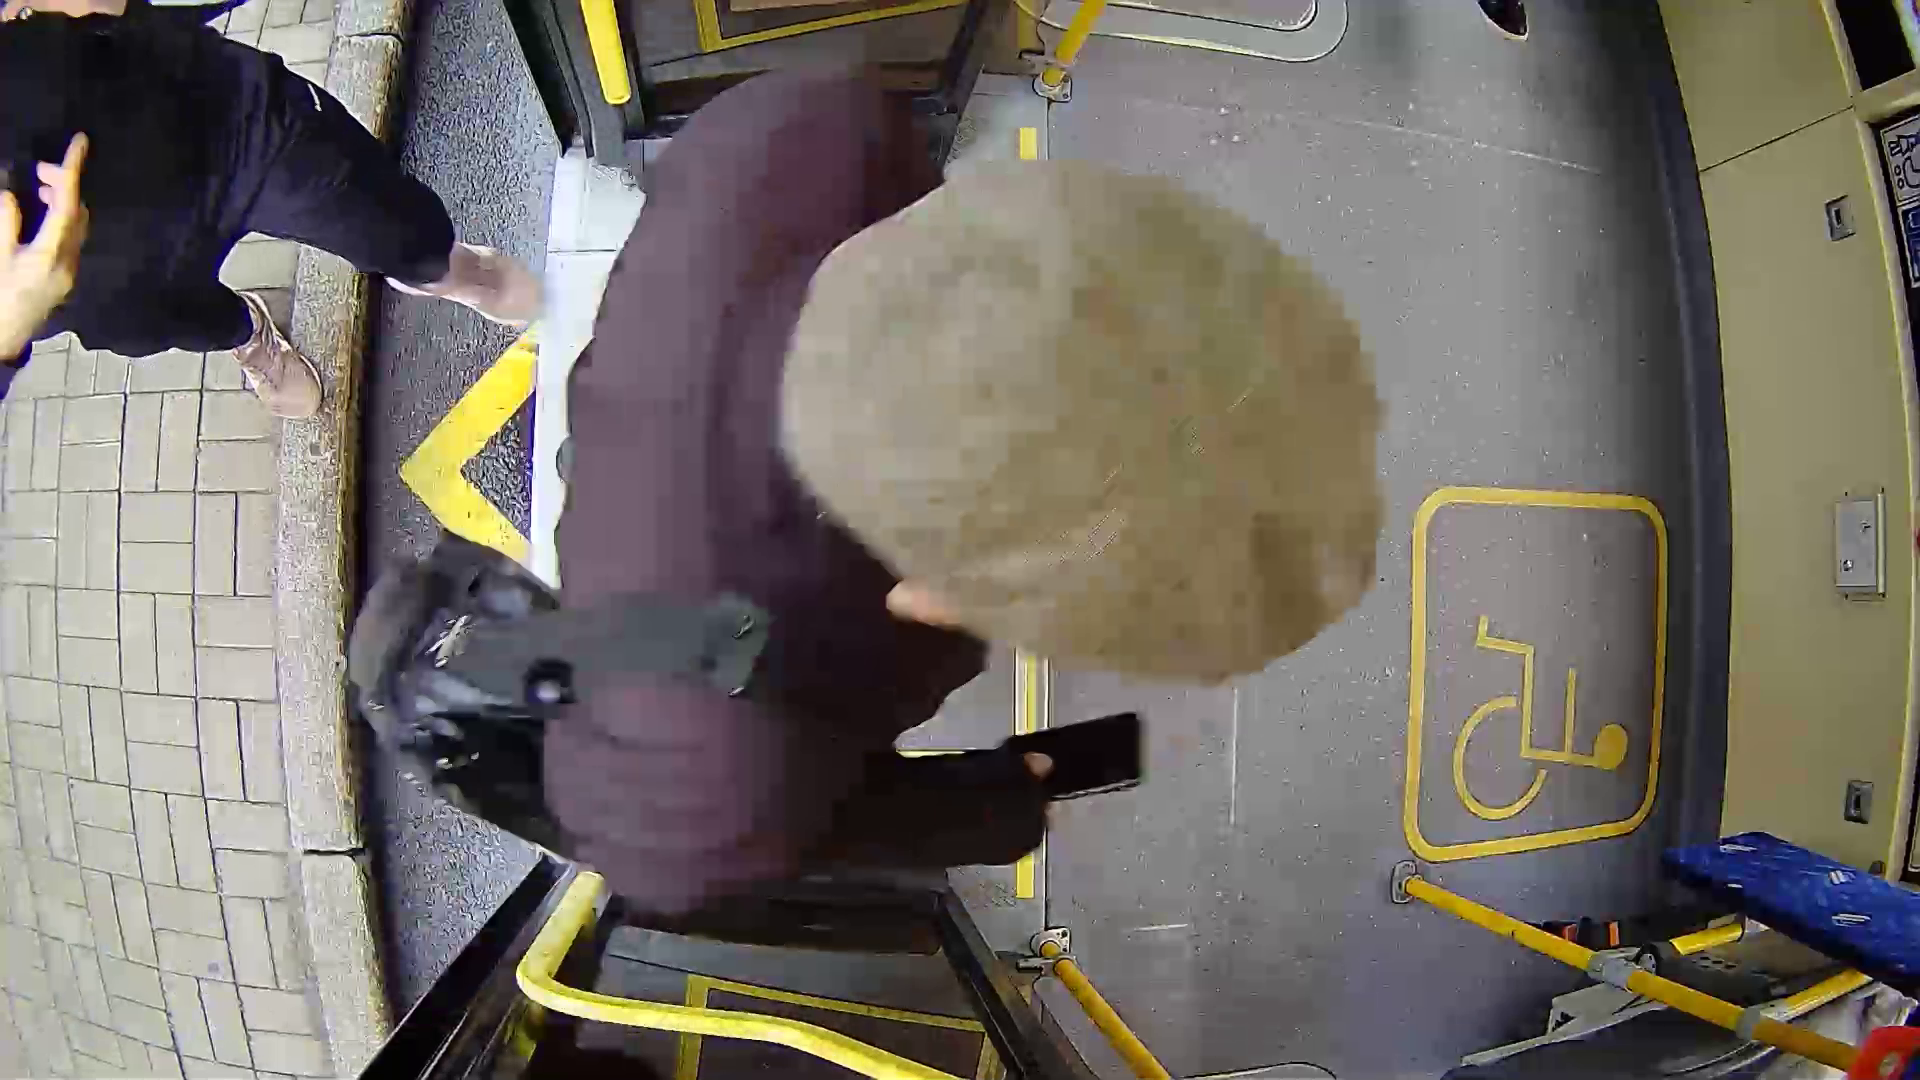person: (438, 56, 1448, 835)
